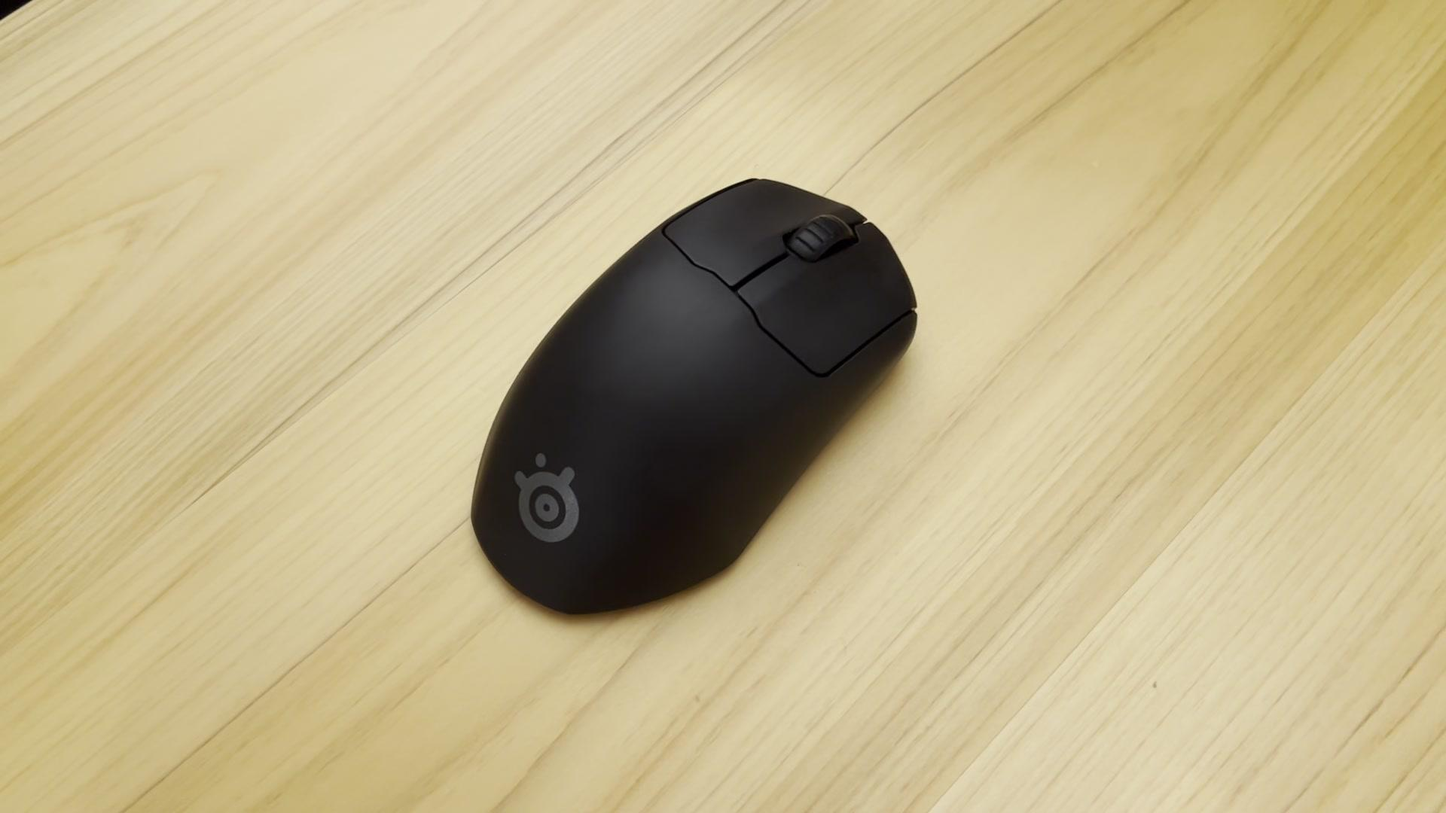steel-series: (460, 166, 929, 630)
